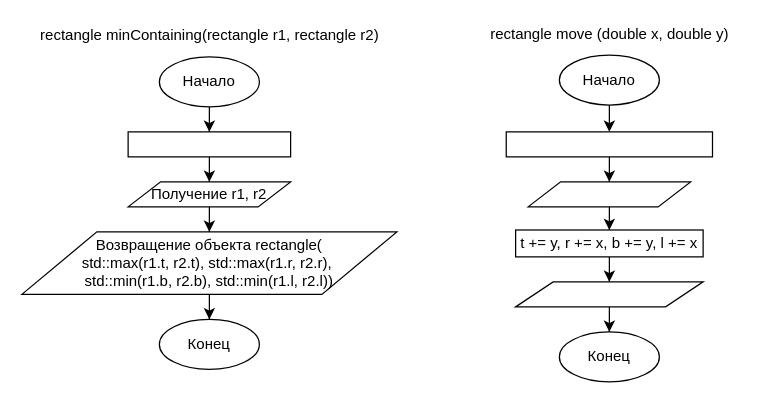
This 763x404 diagram has some shape labels left out. Here are the shapes that lost their labels. From the top down, the centre of each, then its label:
At (209,144): "объект rectangle r1, r2".
At (608,144): "Вещественные число x, y".
At (609,194): "Получение x, y".
At (608,294): "Возвращение *this".
